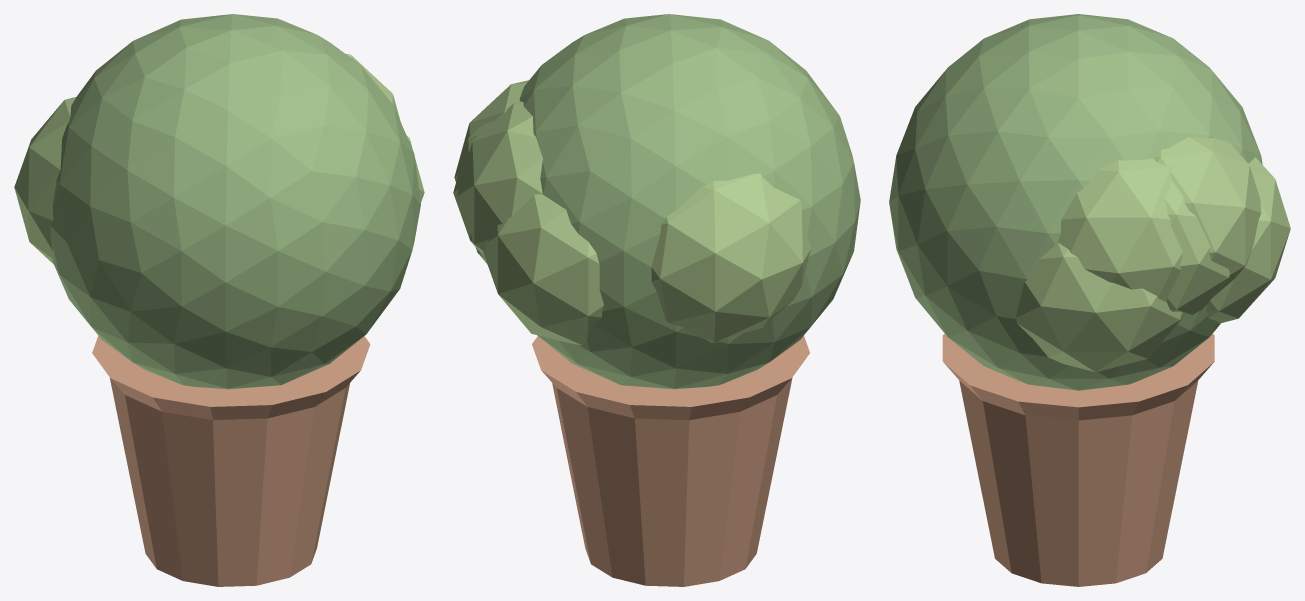
File: pot_plant.glb
3 views of the same model, side by side, from view 1: azimuth 30°, elevation 25°; view 2: azimuth 150°, elevation 25°; view 3: azimuth 270°, elevation 25° (orthographic).
Visible parts, largest first — view 1: pot_plant_leaf, pot_plant_clay, pot_plant_leaf2; view 2: pot_plant_leaf, pot_plant_clay, pot_plant_leaf2; view 3: pot_plant_leaf, pot_plant_leaf2, pot_plant_clay.
Part boxes in pixels (<box>): pot_plant_leaf: <box>50,14,420,389</box>; pot_plant_clay: <box>92,336,370,586</box>; pot_plant_leaf2: <box>14,53,424,264</box>; pot_plant_leaf: <box>519,14,860,389</box>; pot_plant_clay: <box>532,336,809,586</box>; pot_plant_leaf2: <box>453,80,811,345</box>; pot_plant_leaf: <box>889,14,1262,390</box>; pot_plant_leaf2: <box>1015,137,1290,372</box>; pot_plant_clay: <box>942,333,1214,586</box>.
Bounding box in the file's own units: 0.7351 × 1.03 × 0.7202.
